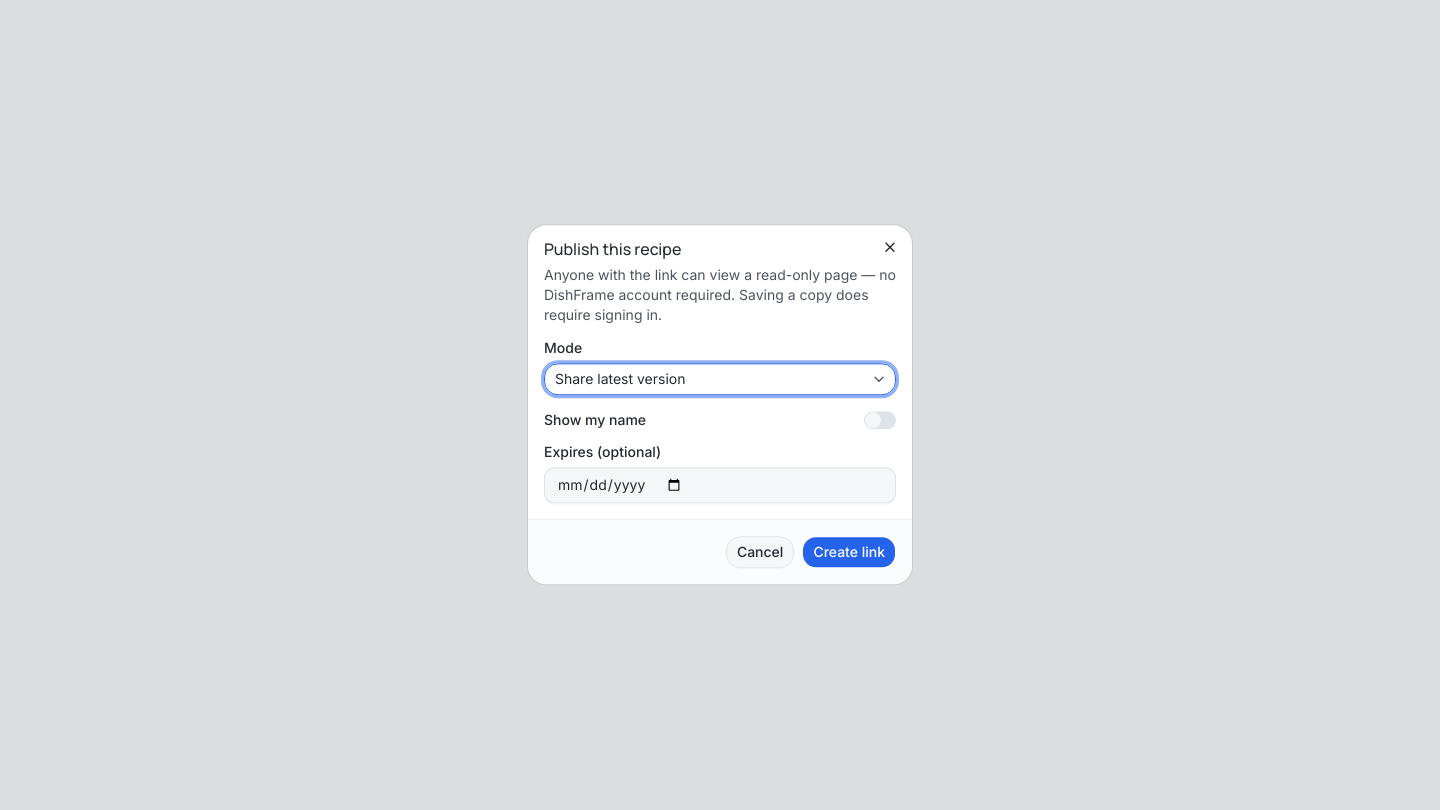
ShareDialog (Publish) › shows the Version picker only after switching to Share a fixed version
The width and height of the screenshot is (1440, 810).
Click the dropdown named "Mode".
click(620, 379)  # box [544, 363, 896, 395]
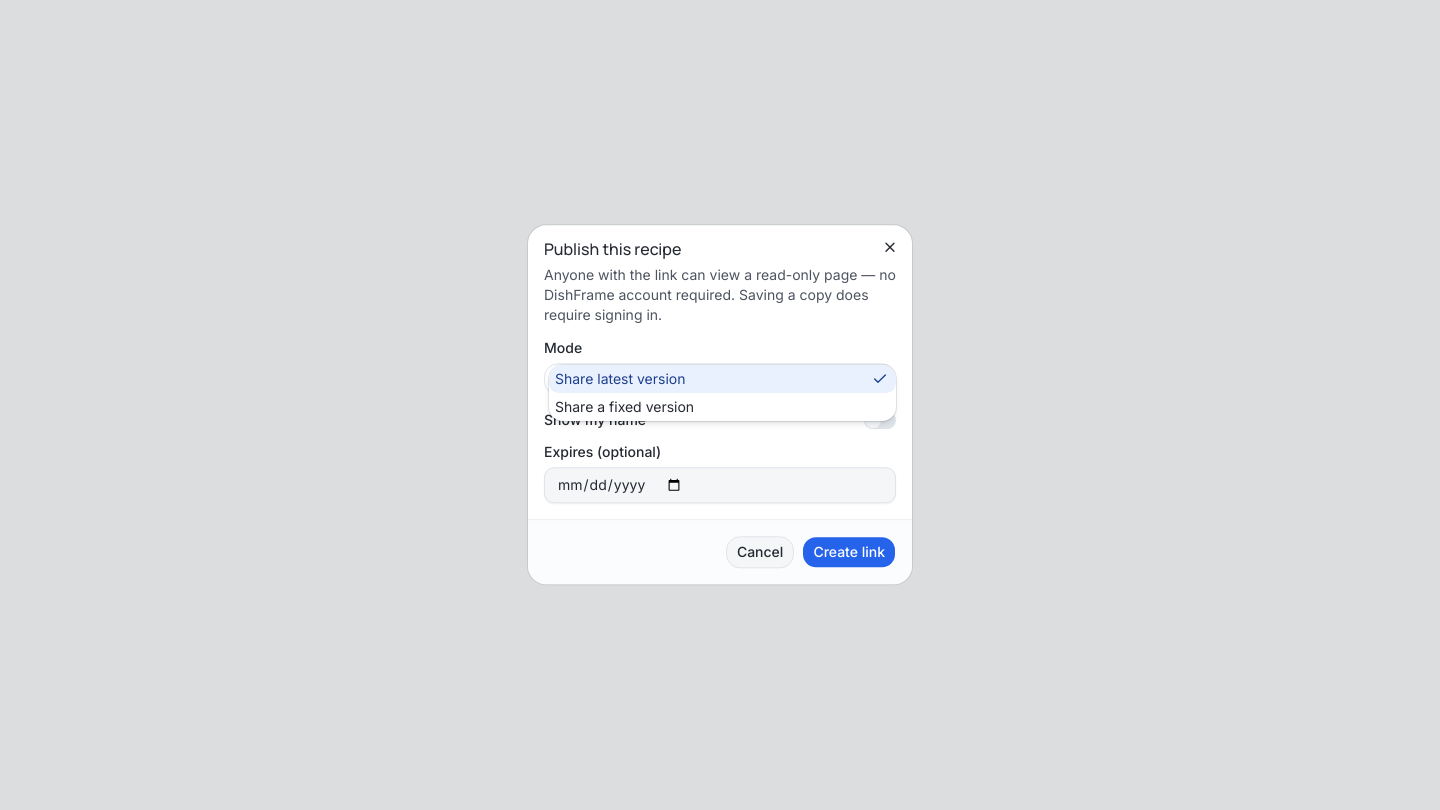
Click the option "Share a fixed version".
click(625, 407)  # box [555, 398, 694, 415]
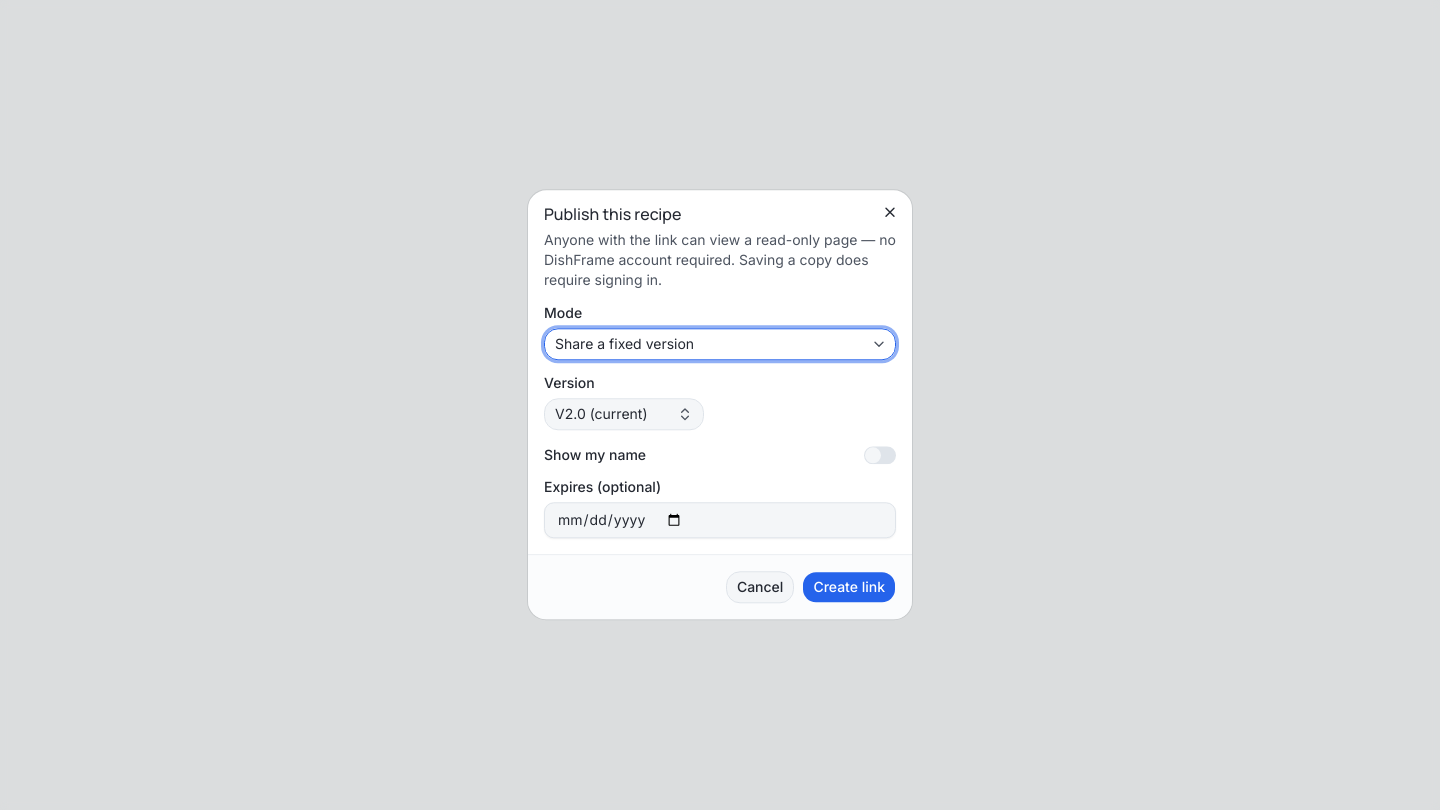
Expected: the dropdown named "Select a Version" is shown, [544, 398, 704, 430]
